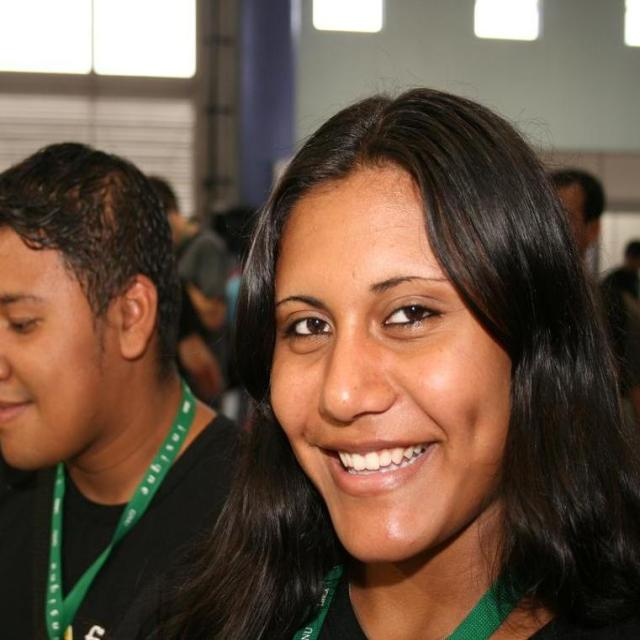Eyebags: (377, 321, 438, 355), (284, 338, 331, 364)
